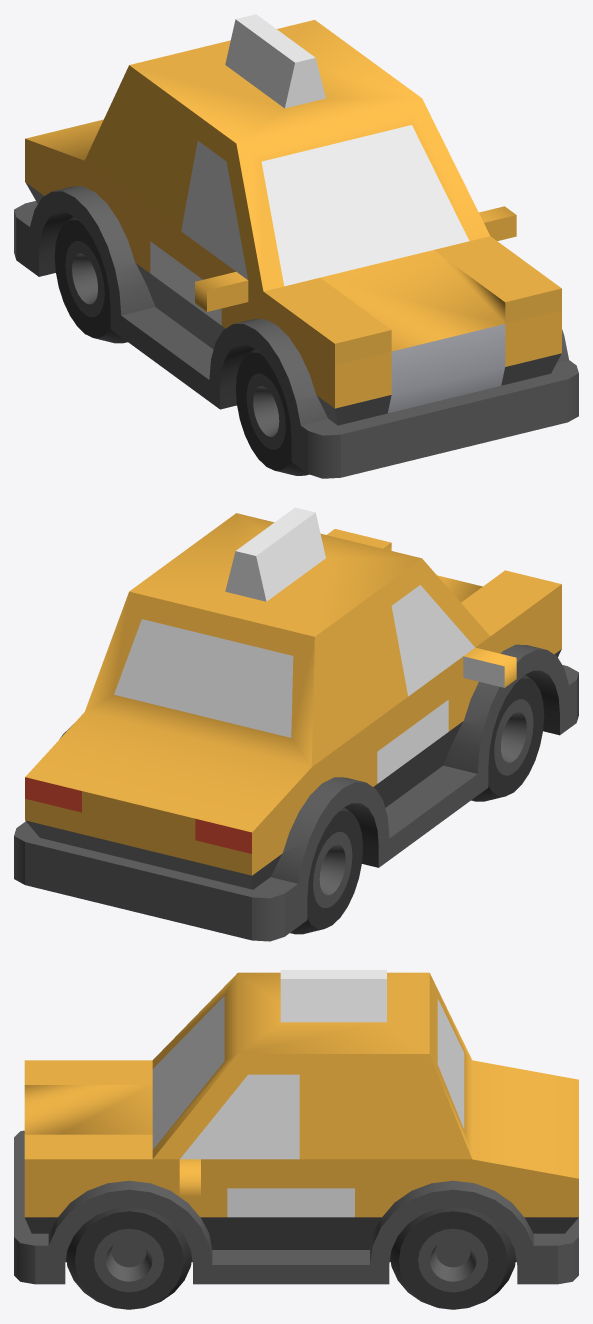
File: taxi.fbx
The picture shows the model from 3 angles, top to bottom: view 1: azimuth 30°, elevation 25°; view 2: azimuth 150°, elevation 25°; view 3: azimuth 270°, elevation 25°; orthographic projection. The views are drawn at different scales.
Visible parts, largest first — view 1: body, wheel_backRight, wheel_frontRight; view 2: body, wheel_backRight, wheel_frontRight; view 3: body, wheel_backLeft, wheel_frontLeft.
Boxes of the visible parts, left/top/right/bottom form: body: left=14, top=14, right=578, bottom=478; wheel_backRight: left=54, top=216, right=127, bottom=343; wheel_frontRight: left=236, top=348, right=308, bottom=475; body: left=14, top=507, right=578, bottom=941; wheel_backRight: left=290, top=807, right=362, bottom=934; wheel_frontRight: left=471, top=674, right=544, bottom=801; body: left=14, top=970, right=578, bottom=1284; wheel_backLeft: left=390, top=1207, right=515, bottom=1309; wheel_frontLeft: left=66, top=1207, right=191, bottom=1309.
Bounding box in the file's own units: 15 × 15 × 26.5.
